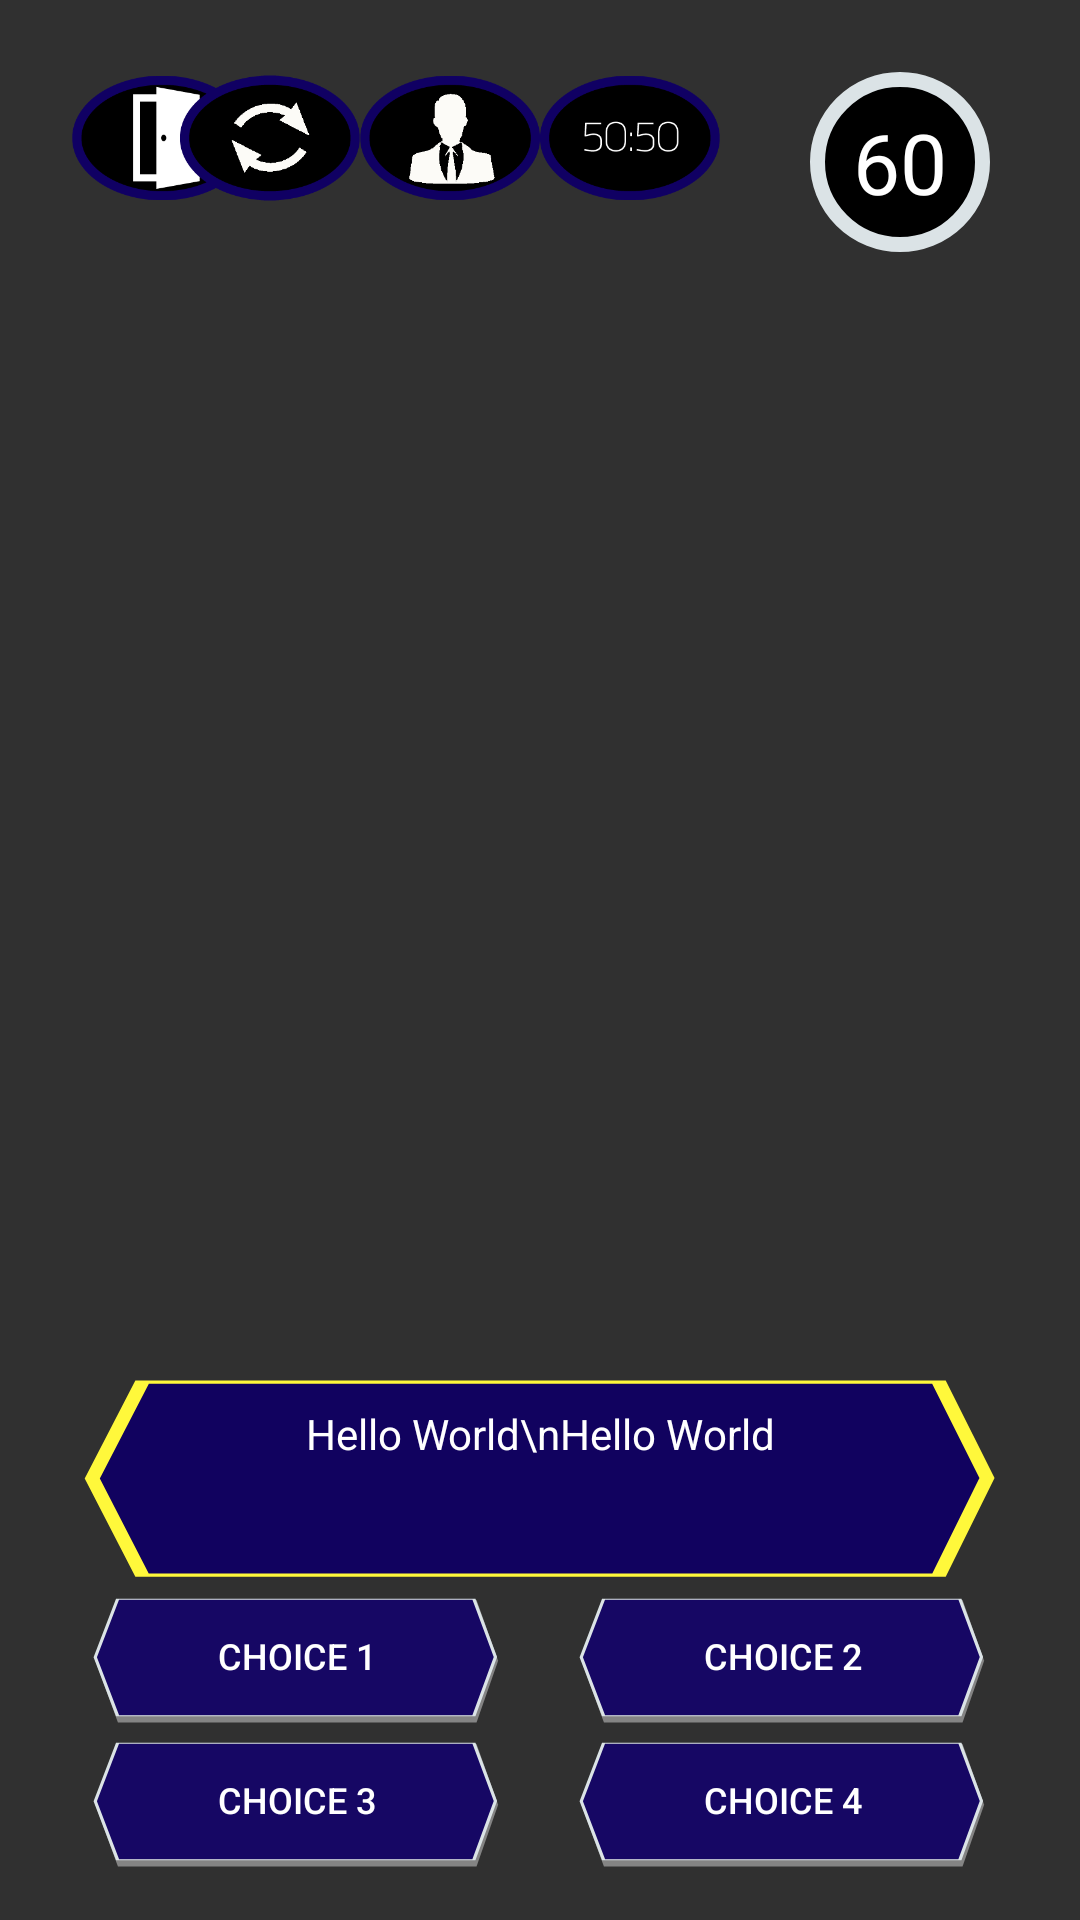

Locate icon controls on the screen. Image size 1080×1920, boxes as [x1=x1, y1=y1, x2=x2, y2=y2].
lifelines askhosthdpi: [x1=360, y1=76, x2=540, y2=200]
lifelines switchhdpi: [x1=180, y1=75, x2=360, y2=201]
